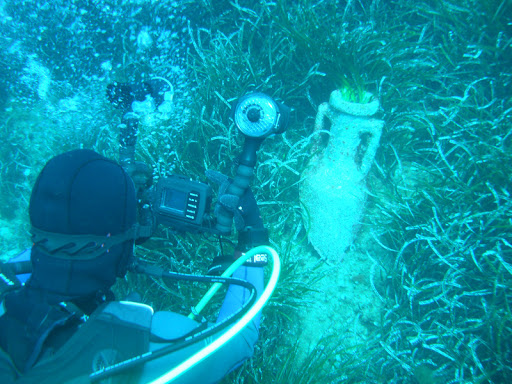amphora: (297, 81, 386, 262)
